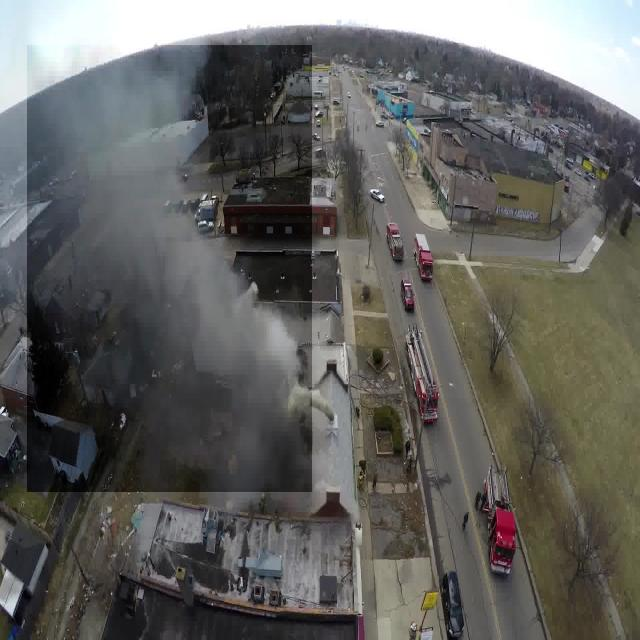Smoke: (27, 45, 312, 492)
